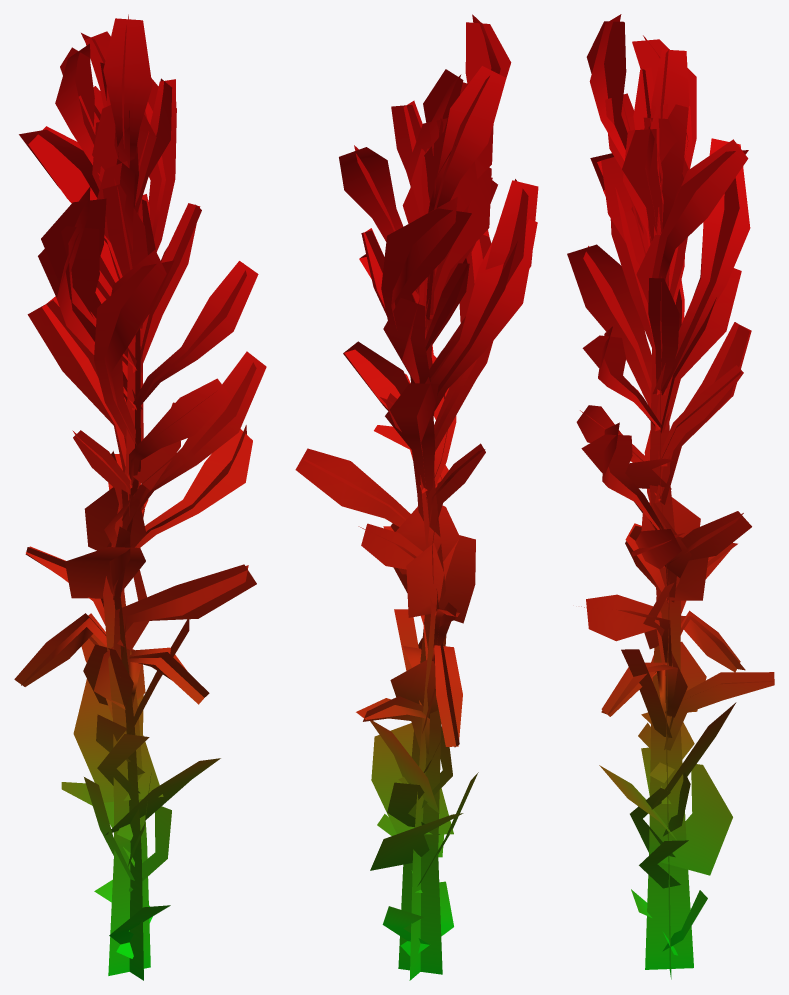
File: Var4_LOD1.fbx
3 views of the same model, side by side, from view 1: azimuth 30°, elevation 25°; view 2: azimuth 150°, elevation 25°; view 3: azimuth 270°, elevation 25° (orthographic). The views are drawn at different scales.
Parts seen in each view (by area): view 1: _121e_Var4_LOD1; view 2: _121e_Var4_LOD1; view 3: _121e_Var4_LOD1.
Part boxes in pixels (x1,y1,x2,y2): _121e_Var4_LOD1: [14, 14, 266, 980]; _121e_Var4_LOD1: [295, 14, 538, 980]; _121e_Var4_LOD1: [567, 14, 774, 979].
Bounding box in the file's own units: 25.34 × 107 × 21.51.
